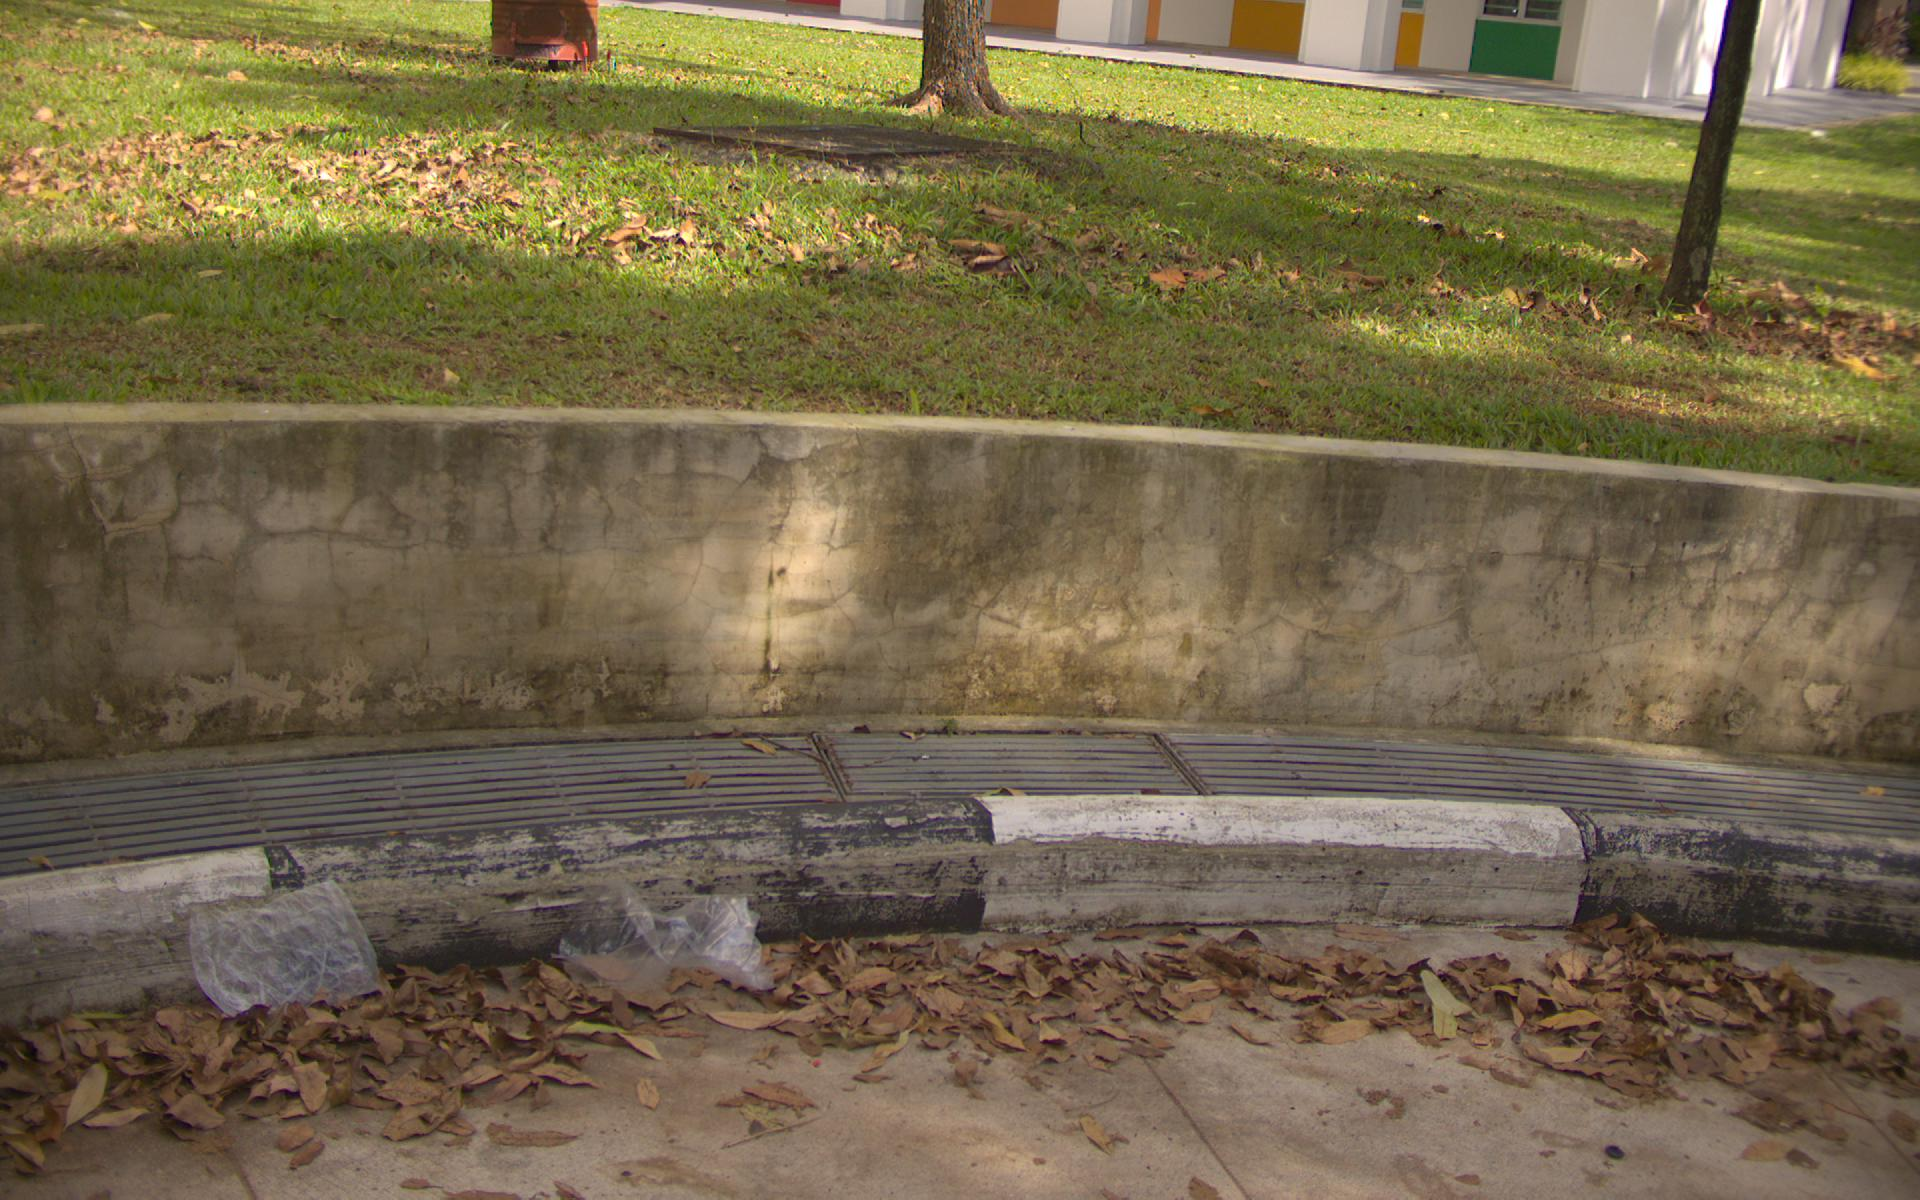curb_dic_low: (289, 729, 1920, 832)
road_curb_medium: (480, 929, 1920, 1199)
road_turf_low: (19, 113, 1920, 397)
